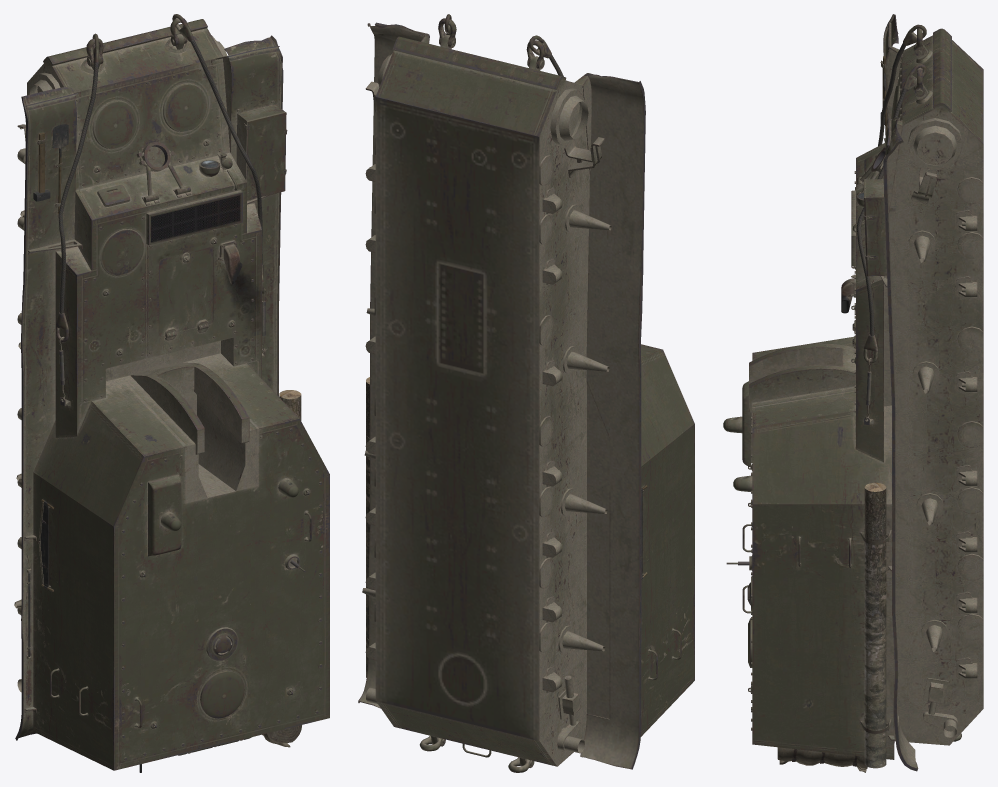
File: Hull.glb
3 views of the same model, side by side, from view 1: azimuth 30°, elevation 25°; view 2: azimuth 150°, elevation 25°; view 3: azimuth 270°, elevation 25° (orthographic). The views are drawn at different scales.
Visible parts, largest first — view 1: set_0_group_0; view 2: set_0_group_0; view 3: set_0_group_0.
Part boxes in pixels (x1,y1,x2,y2): set_0_group_0: [14, 14, 329, 772]; set_0_group_0: [358, 14, 694, 772]; set_0_group_0: [723, 14, 983, 772].
Size of the model in its own units: 3.41 by 8.45 by 2.89.
1 material, 1 textured.
